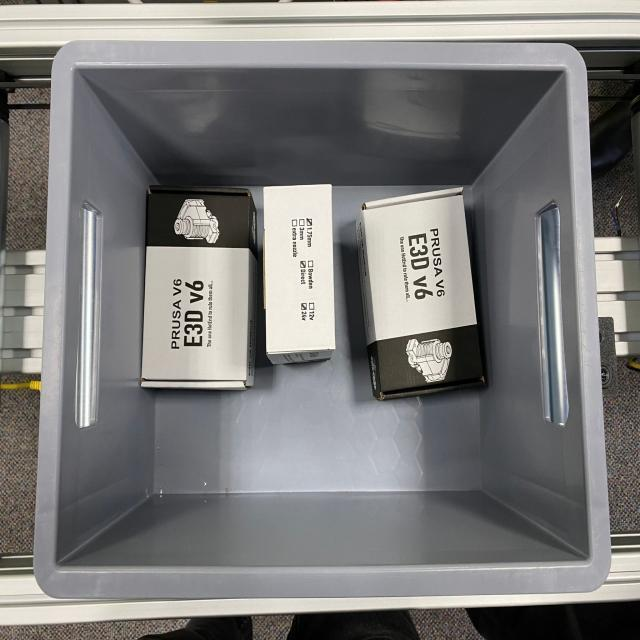box: (353, 185, 487, 401), (141, 182, 257, 390), (262, 183, 338, 356)
